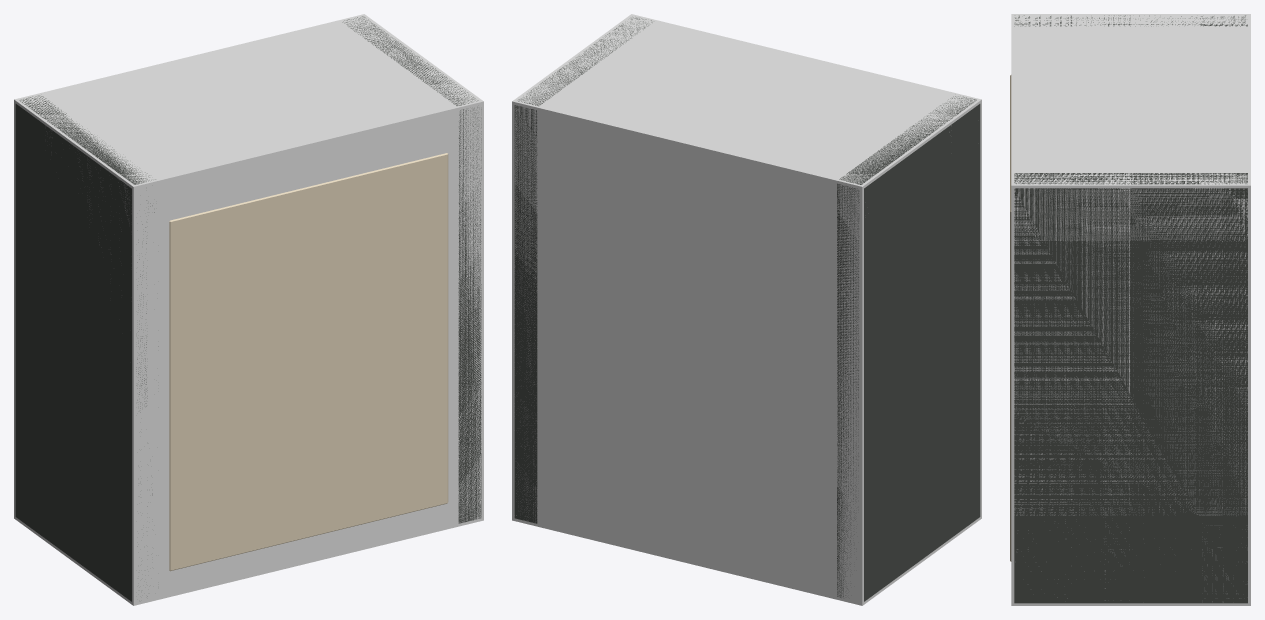
Rendered from restroom-stall_basic.glb.
3 renders of one model, left to right at view 1: azimuth 30°, elevation 25°; view 2: azimuth 150°, elevation 25°; view 3: azimuth 270°, elevation 25°, orthographic.
Visible parts, largest first — view 1: MESH_StallDoor, COL_restroom-stall, MESH_Partition, MESH_Partition.001; view 2: COL_restroom-stall, MESH_Partition, MESH_Partition.001; view 3: MESH_Partition.001, COL_restroom-stall, MESH_StallDoor, MESH_Partition.
Part boxes in pixels (box(x1,y1,x2,y2)): MESH_StallDoor: box(169, 153, 448, 571); COL_restroom-stall: box(14, 14, 483, 605); MESH_Partition: box(15, 95, 158, 601); MESH_Partition.001: box(342, 16, 481, 523); COL_restroom-stall: box(512, 14, 981, 605); MESH_Partition: box(837, 96, 980, 601); MESH_Partition.001: box(514, 17, 652, 523); MESH_Partition.001: box(1014, 173, 1247, 603); COL_restroom-stall: box(1011, 14, 1250, 605); MESH_StallDoor: box(1010, 75, 1011, 561); MESH_Partition: box(1014, 15, 1247, 26).
Size of the model in its own units: 1.05 by 1.2 by 0.6231.
